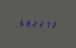eight: (23, 19, 28, 27)
seven: (42, 20, 47, 28)
six: (17, 18, 22, 27)
two: (36, 19, 41, 28), (30, 19, 35, 27), (48, 20, 53, 28)
